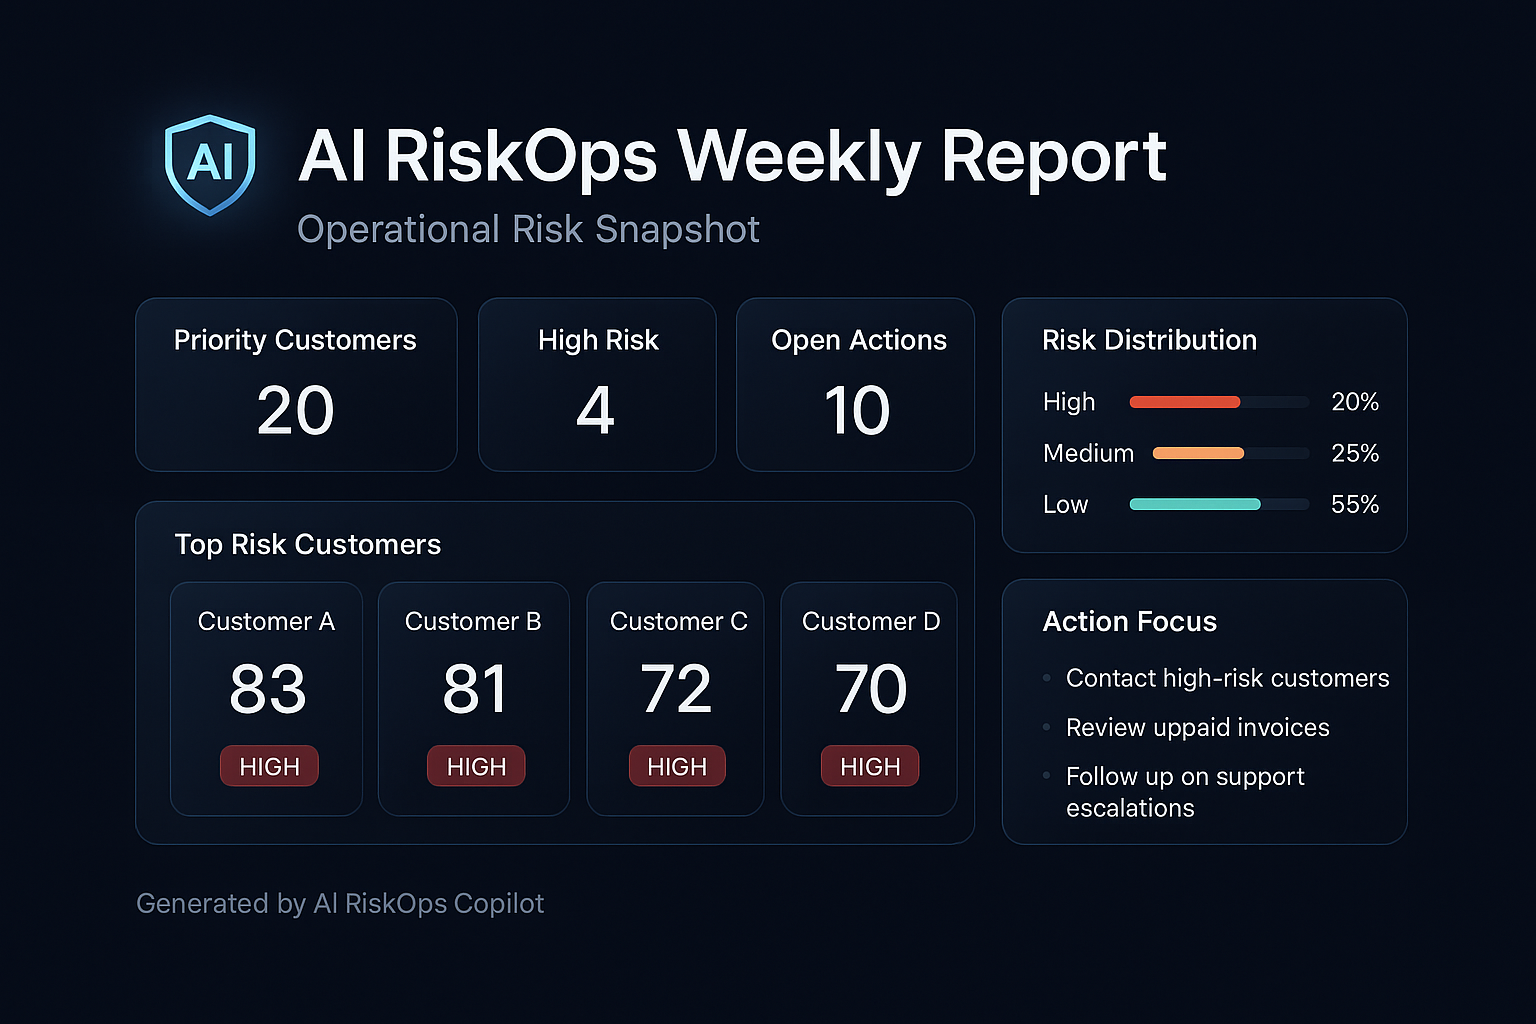

The page's visual inventory and layout, read from the dashboard file:
{"tool":"powerbi","page":{"name":"Executive Overview","canvas":[1280,720],"ordinal":0},"visuals":[{"type":"textbox","box":[10,0,595,60],"z":0},{"type":"cardVisual","fields":{"Data":["_Measures.Total Customers","_Measures.High Risk Customers","_Measures.Open Actions","_Measures.Overdue Actions","_Measures.RiskOps Pressure Score"]},"box":[0,102.5,1280,111.2],"z":1000},{"type":"donutChart","title":"Risk Distribution","fields":{"Category":["Risk_Customers.risk_level"],"Y":["_Measures.Total Customers"]},"box":[0,213.8,621.2,266.2],"z":2000},{"type":"clusteredColumnChart","title":"Actions by Priority","fields":{"Category":["Action_Board.priority"],"Y":["_Measures.Total Actions"]},"box":[621.2,213.8,658.8,266.2],"z":3000},{"type":"tableEx","title":"Top Risk Customers","fields":{"Values":["Risk_Customers.Customer Alias","Risk_Customers.risk_level","Risk_Customers.risk_score","Risk_Customers.confidence","Risk_Customers.top_reasons","Risk_Customers.next_best_action","Risk_Customers.owner","Risk_Customers.Due Date Display"]},"box":[0,479.6,1280,240.6],"z":4000},{"type":"pageNavigator","box":[0,60,1280,52.5],"z":5000}]}

Visuals, with their boxes on the page's 1280x720 design canvas (x1, y1, x2, y2). These are canvas units, not pixel positions in the 1536x1024 screenshot, which may show the page scaled, cropped or inside an application window:
textbox: rect(10, 0, 605, 60)
cardVisual - _Measures.Total Customers x _Measures.High Risk Customers: rect(0, 102, 1280, 214)
"Risk Distribution" donutChart: rect(0, 214, 621, 480)
"Actions by Priority" clusteredColumnChart: rect(621, 214, 1280, 480)
"Top Risk Customers" tableEx: rect(0, 480, 1280, 720)
pageNavigator: rect(0, 60, 1280, 112)
